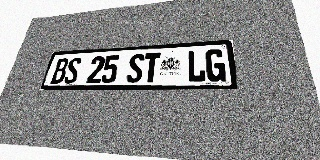2: (86, 56, 106, 84)
5: (100, 55, 120, 83)
B: (50, 58, 70, 84)
G: (205, 49, 226, 82)
L: (187, 50, 206, 82)
S: (126, 53, 145, 83), (63, 57, 82, 84)
T: (142, 52, 161, 83)
